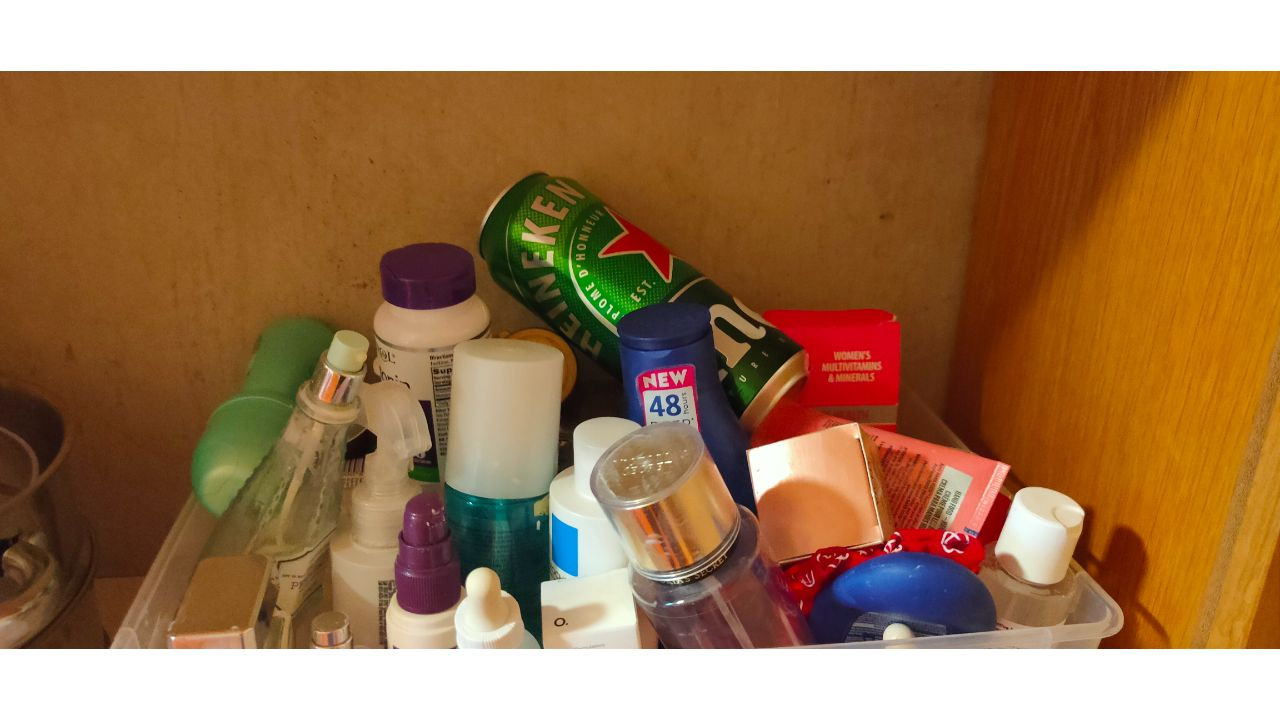Can: (474, 171, 807, 424)
